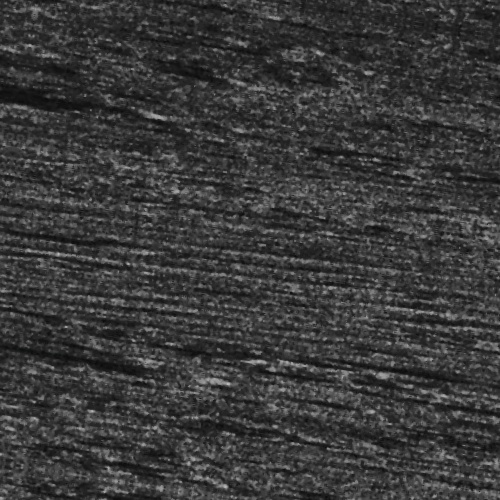object: (71, 123, 164, 136)
shadow: (352, 333, 500, 350), (0, 123, 117, 136)
